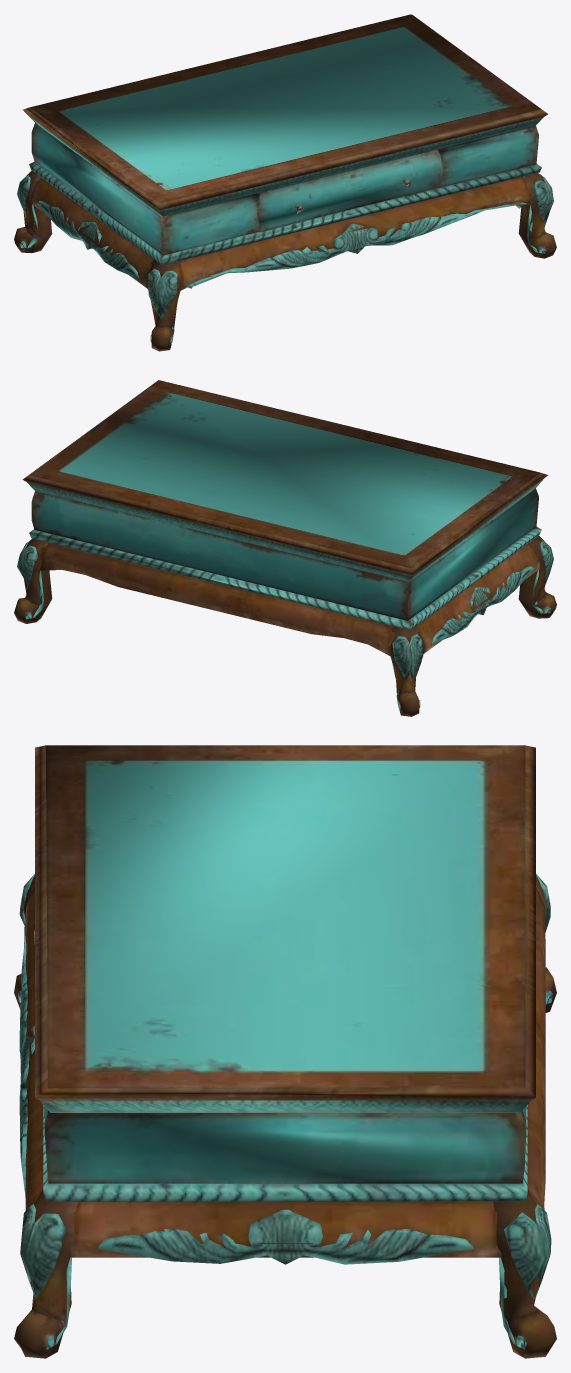
The model's file is CoffeeTable_01.glb.
3 views of the same model, one above another, from view 1: azimuth 30°, elevation 25°; view 2: azimuth 150°, elevation 25°; view 3: azimuth 270°, elevation 25° (orthographic). The views are drawn at different scales.
Visible parts, largest first — view 1: CoffeeTable_01; view 2: CoffeeTable_01; view 3: CoffeeTable_01.
Part boxes in pixels (<box>): CoffeeTable_01: <box>14,14,556,351</box>; CoffeeTable_01: <box>14,380,556,716</box>; CoffeeTable_01: <box>14,745,556,1358</box>.
Bounding box in the file's own units: 1.54 × 0.5212 × 0.9728.
Materials: 1 (1 with a texture image).
